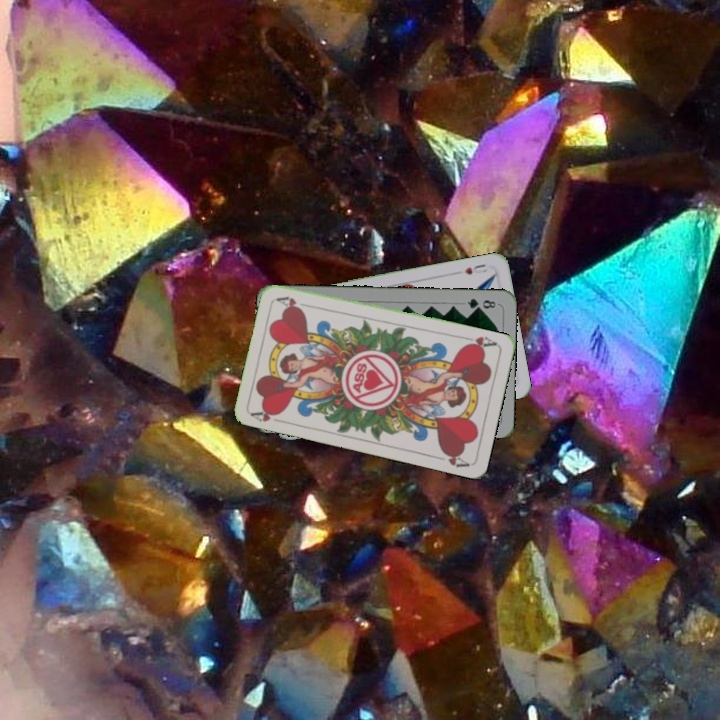G8: (463, 294, 498, 312)
HA: (248, 404, 288, 426), (459, 332, 500, 352)
HU: (460, 260, 489, 277)
